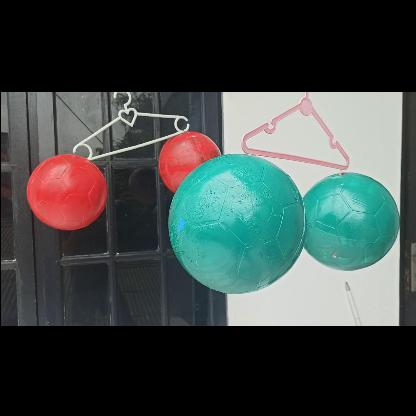red_ball: (26, 151, 104, 229)
